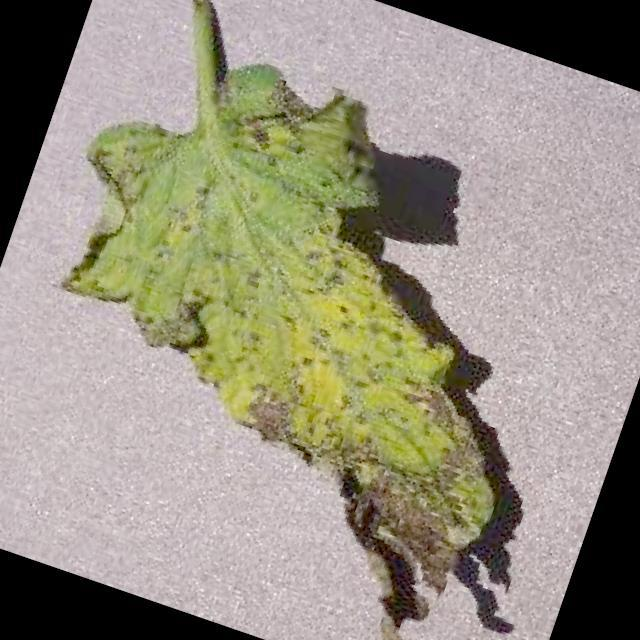Tomato Septoria spot leaf: (0, 18, 603, 640)
